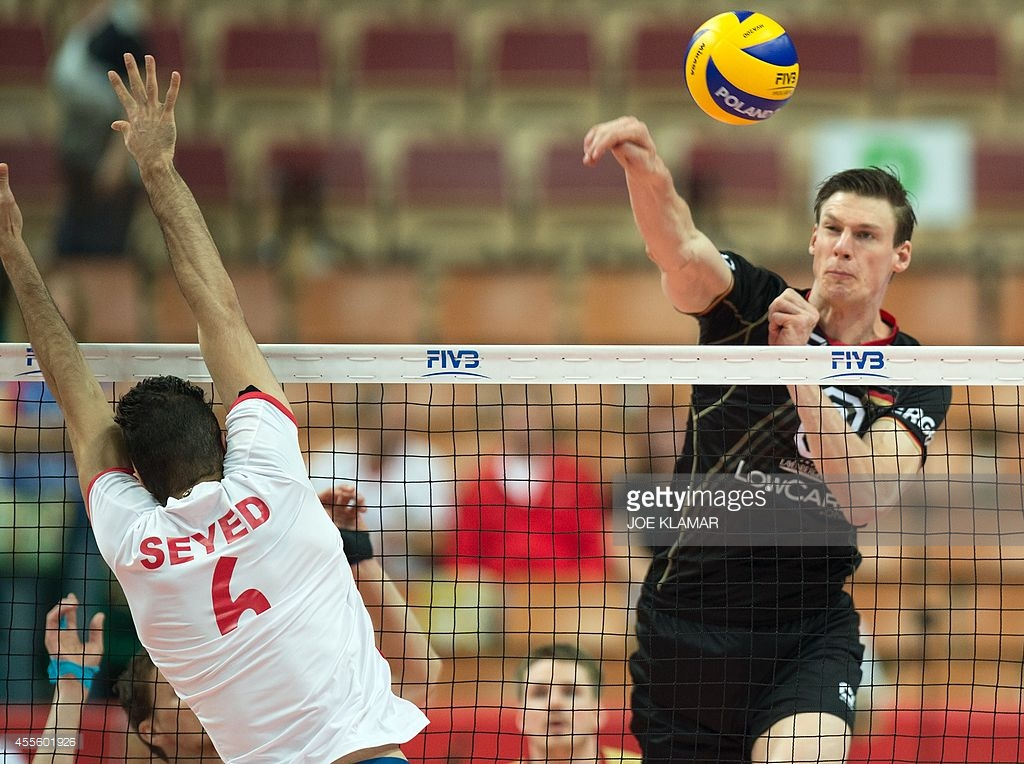volleyball: (682, 9, 801, 124)
